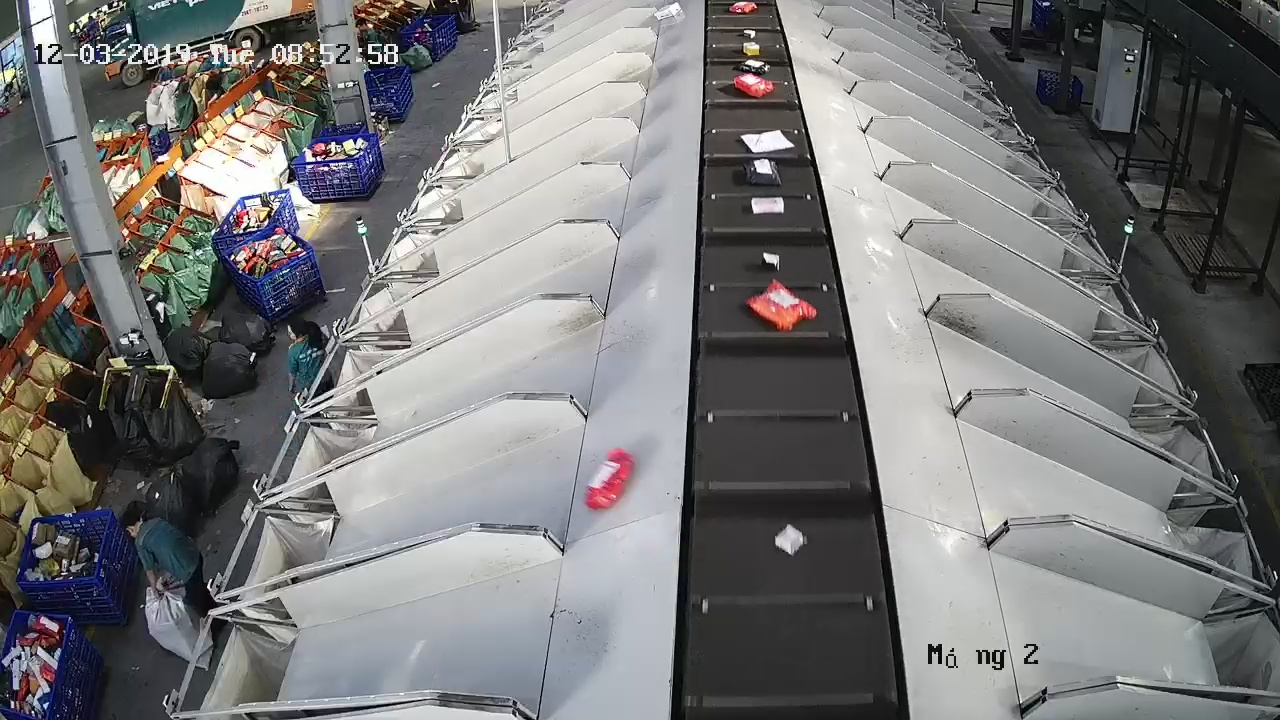parcel: (744, 277, 819, 333), (583, 446, 636, 512), (739, 127, 797, 154), (741, 157, 784, 188), (773, 522, 808, 557), (749, 195, 786, 216), (760, 250, 782, 273)
